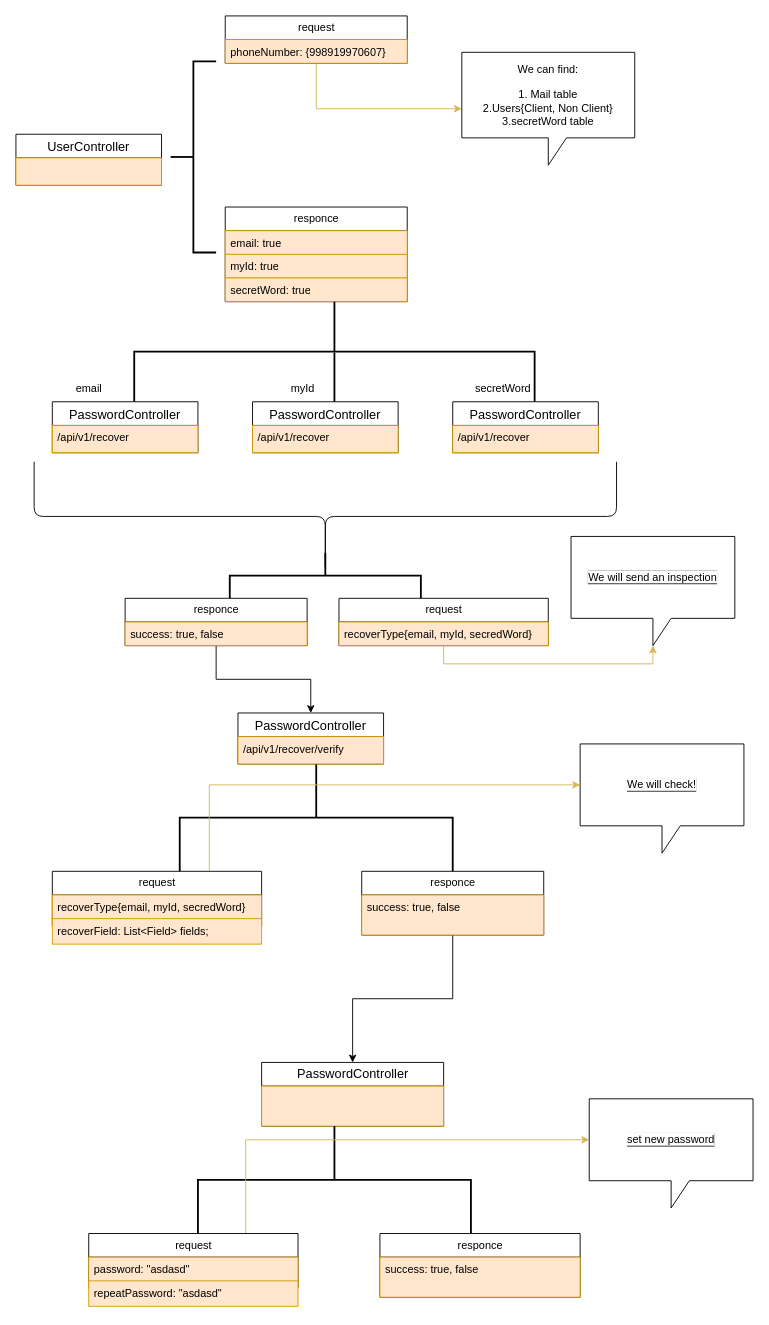
The diagram is 769 pixels wide and 1325 high, and some of its shapes have lost their labels. Here are the shapes that lost their labels. From the top down, the centre of each, then its label:
point 88,171: /api/v1/user/recover
point 352,1105: /api/v1/recover/password
